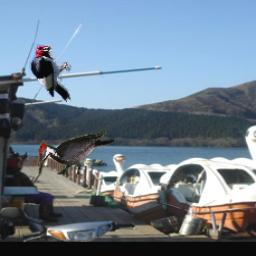Woodpecker: (38, 132, 114, 175), (30, 42, 74, 104)
